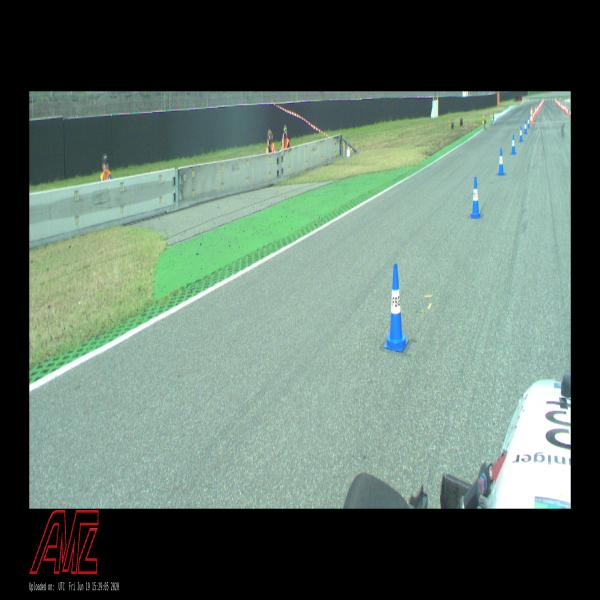blue_cone: (384, 264, 409, 352), (470, 177, 481, 218), (498, 148, 505, 175), (511, 133, 516, 154), (519, 126, 523, 142), (524, 120, 527, 134), (527, 116, 530, 129)
large_orange_cone: (530, 107, 534, 124)
orange_cone: (569, 108, 571, 118), (566, 108, 568, 115)
